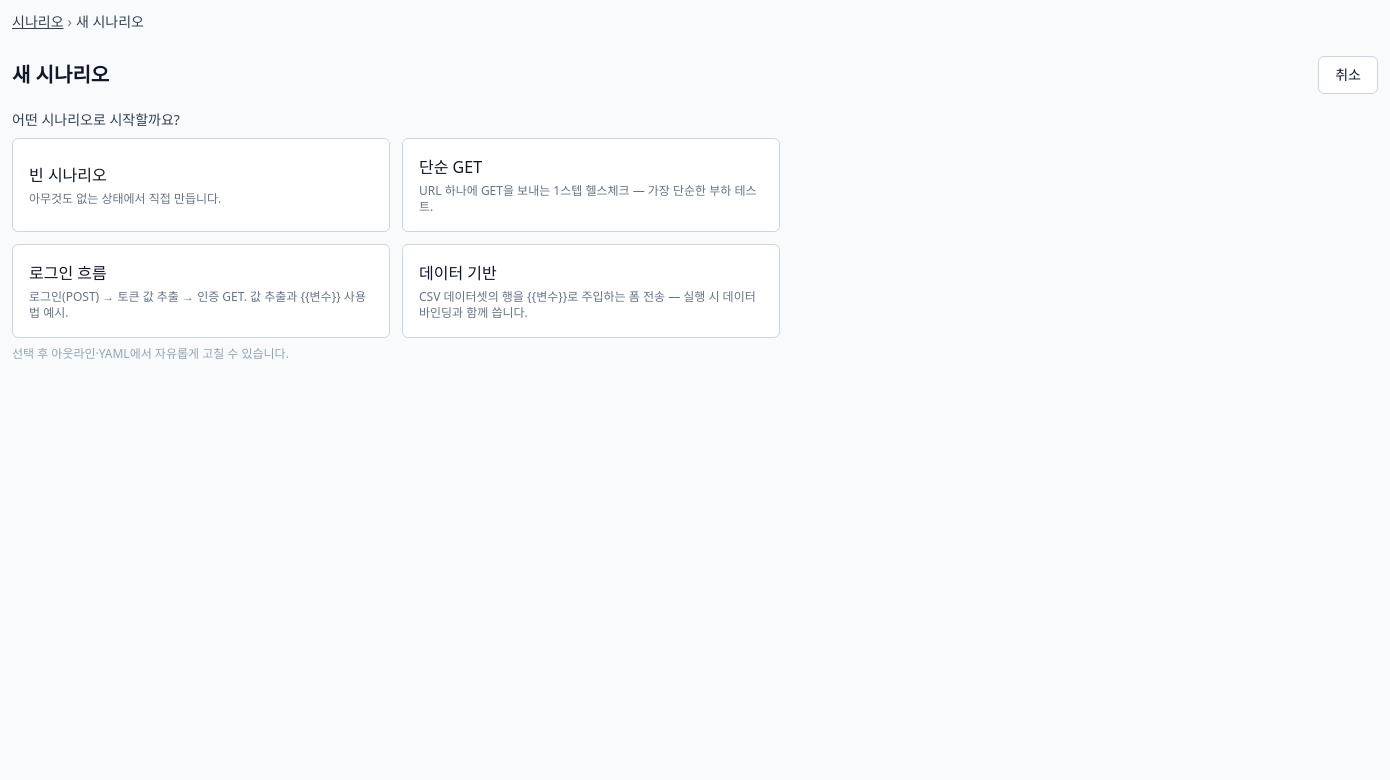
Test: ScenarioNewPage 템플릿 갤러리 (U3) › 만들기 실패 시 오류 Callout(roleless, rounded-md/bg-red-50)
This screenshot has width=1390, height=780.
Click the button "빈 시나리오 아무것도 없는 상태에서 직접 만듭니다." at (68,175), box [12,138,390,232]
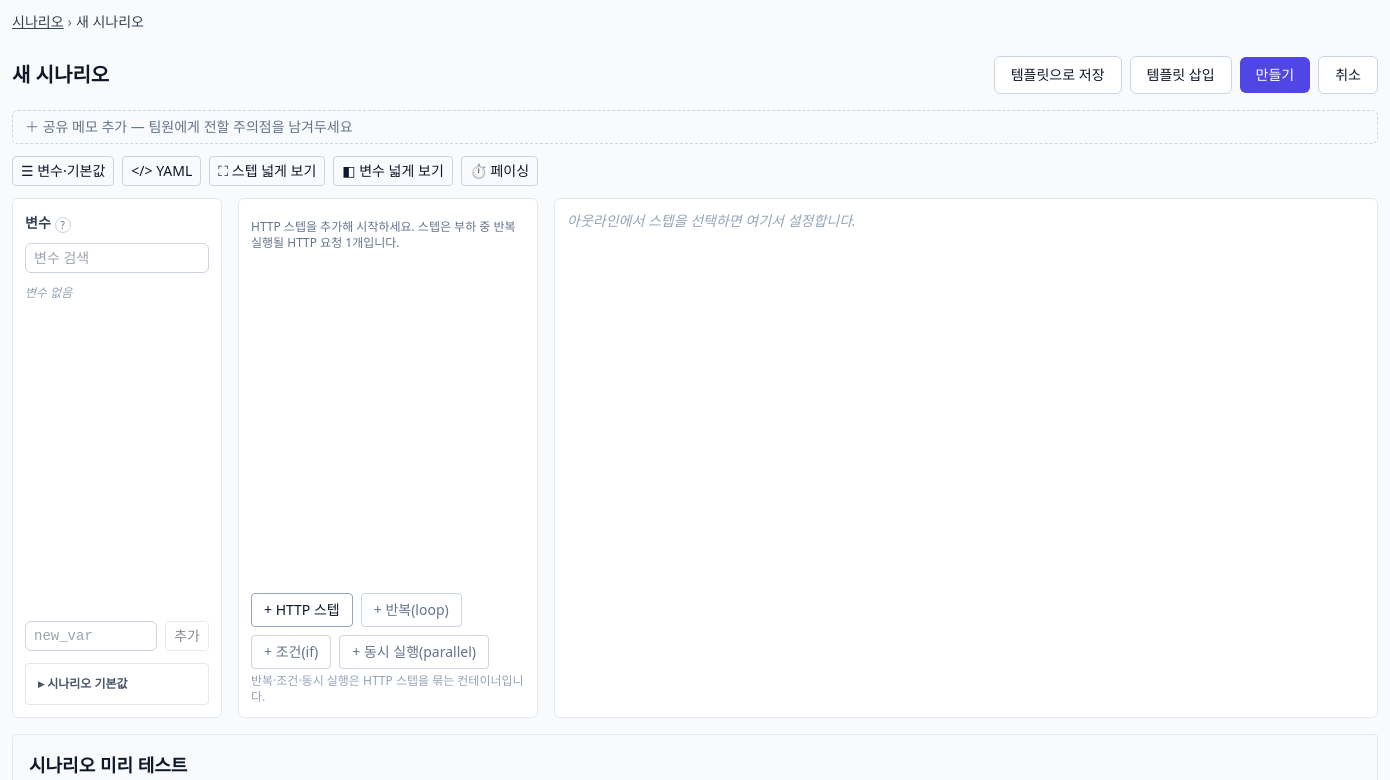
Click the button "만들기" at (1275,75), box [1240,57,1310,93]
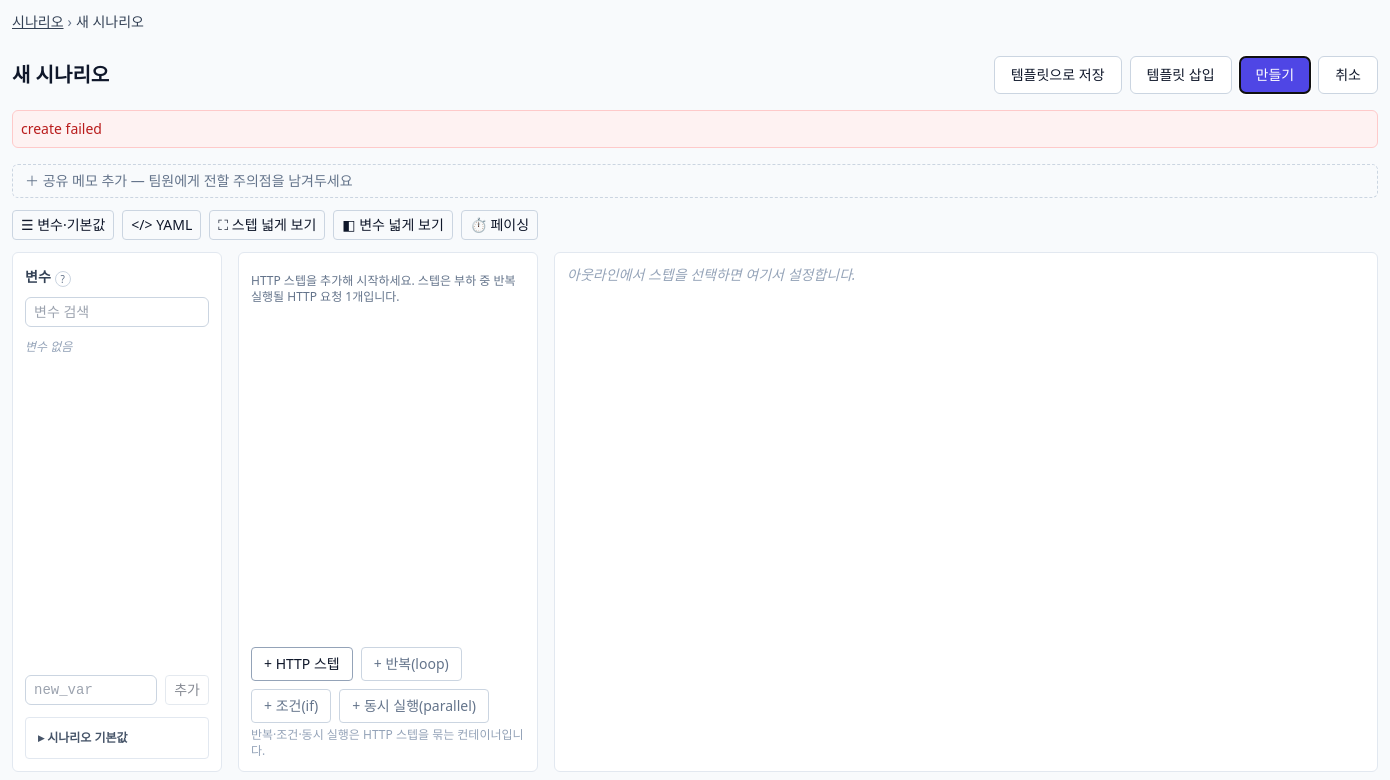
Now the text "create failed" is shown, box [12,110,1378,148]
